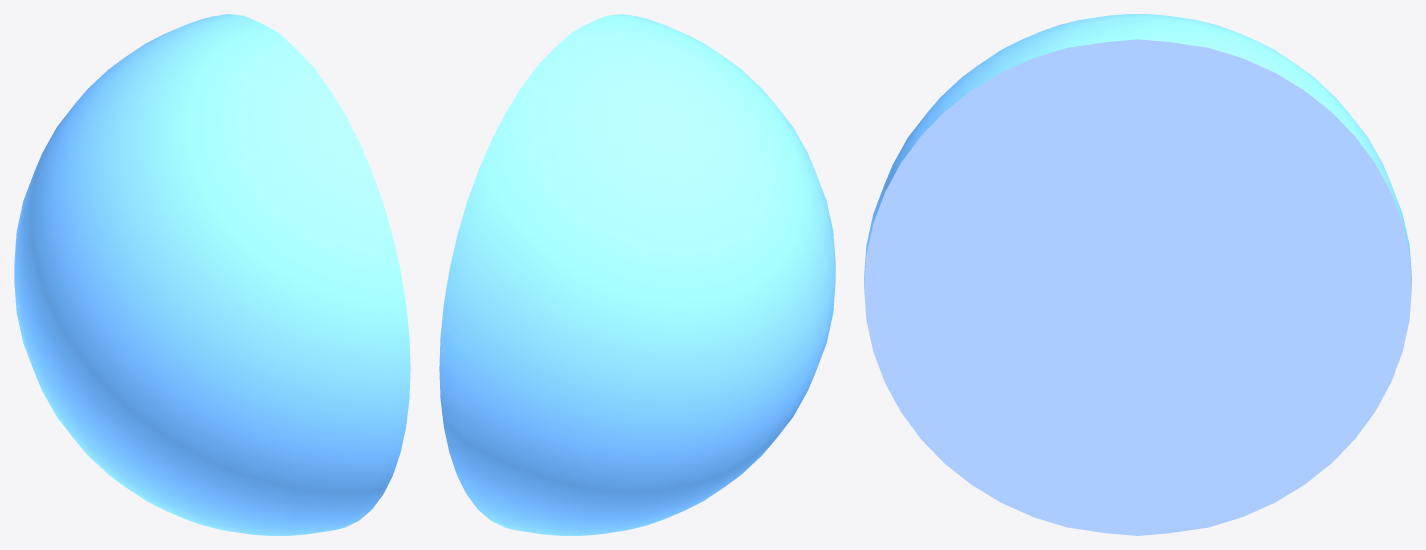
3 renders of one model, left to right at view 1: azimuth 30°, elevation 25°; view 2: azimuth 150°, elevation 25°; view 3: azimuth 270°, elevation 25°, orthographic. The views are drawn at different scales.
Parts seen in each view (by area): view 1: Sphere-left; view 2: Sphere-left; view 3: Sphere-left.
Boxes of the visible parts, x1,y1,x2,y2 form: Sphere-left: [14, 14, 410, 535]; Sphere-left: [439, 14, 835, 535]; Sphere-left: [864, 14, 1411, 535].
Bounding box in the file's own units: 0.0166 × 0.0332 × 0.0332.
